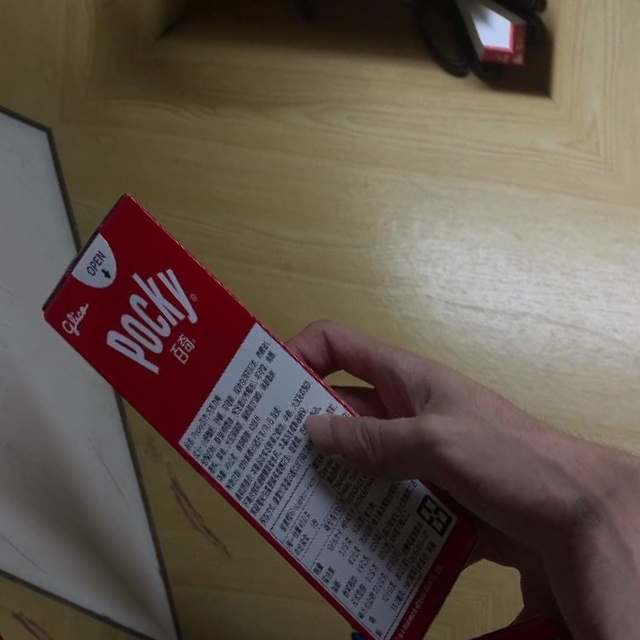Pocky: (17, 158, 514, 640)
